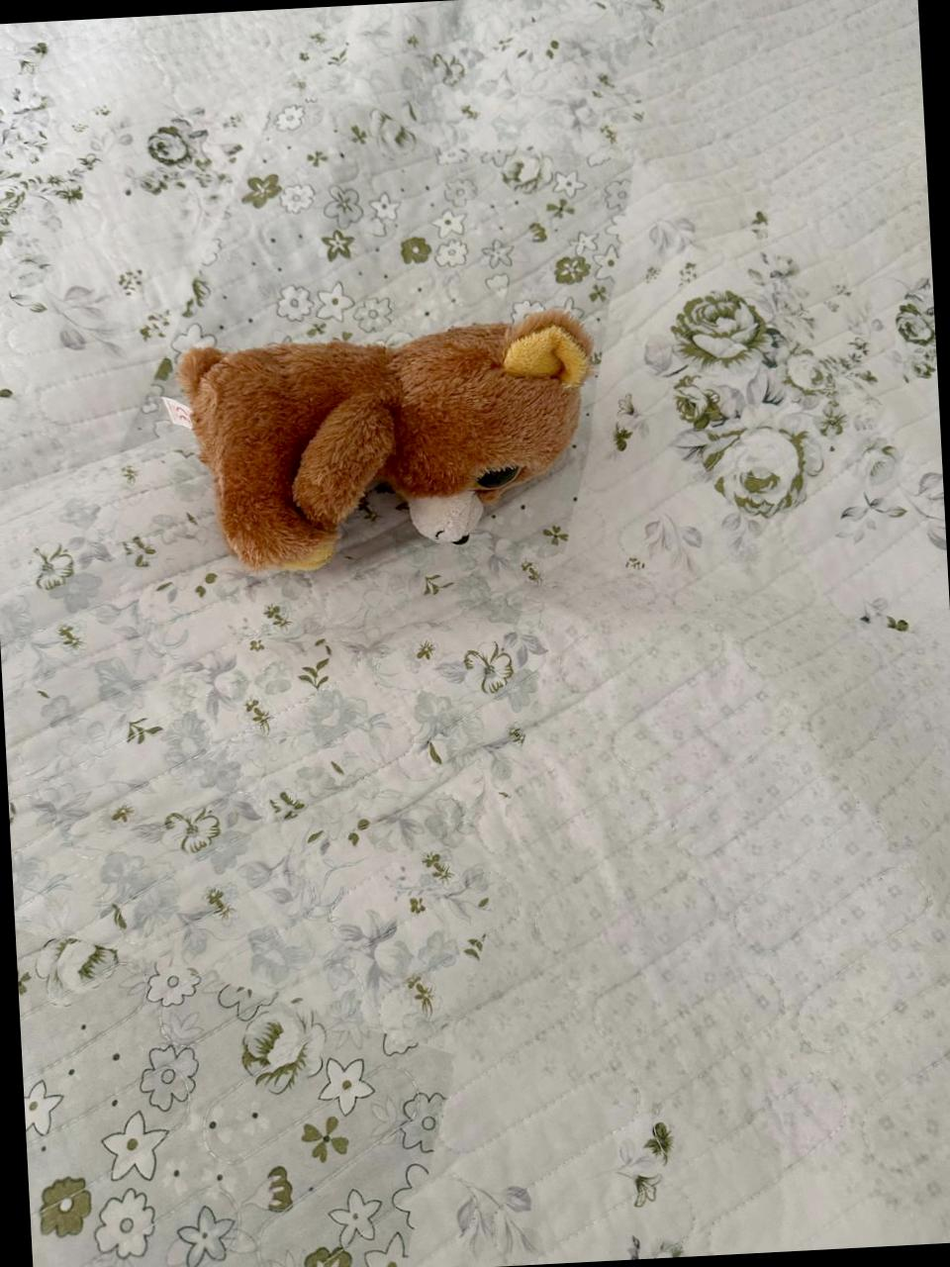peluche_sebastian: (167, 312, 606, 594)
